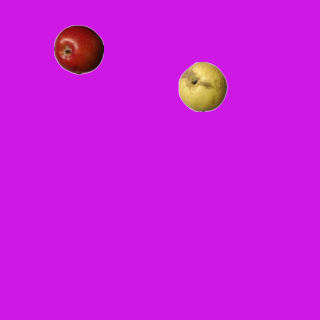Apple Braeburn: (53, 24, 103, 74)
Apple Golden 1: (177, 61, 227, 111)
